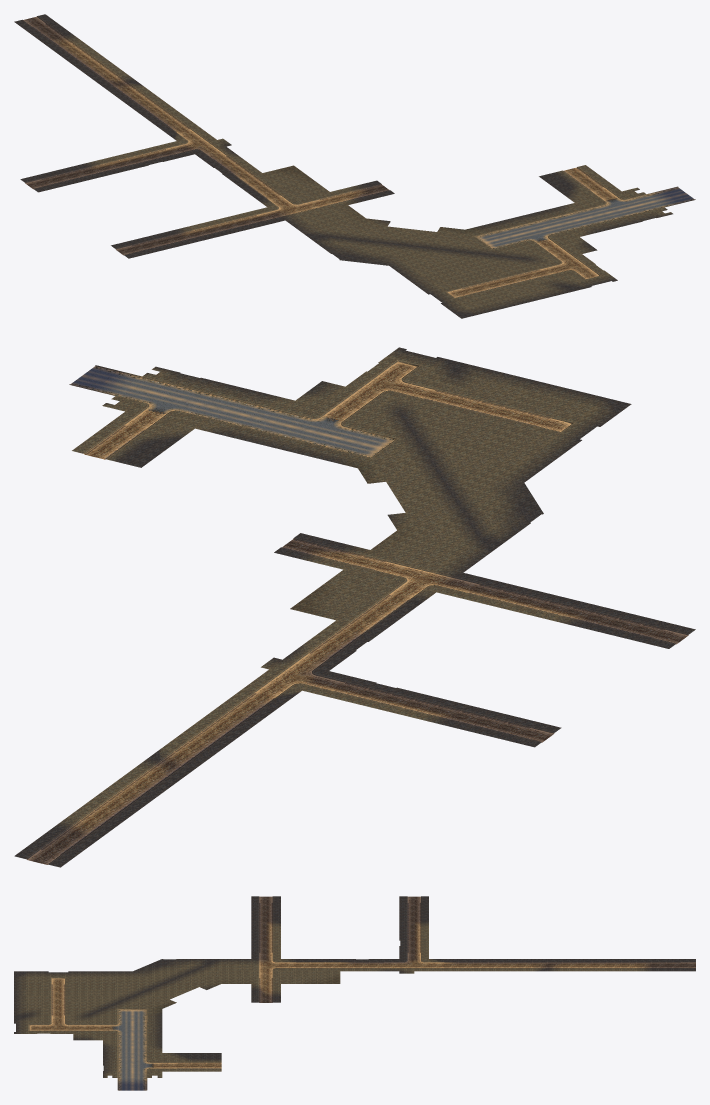
File: M7_Zone1.glb
The picture shows the model from 3 angles, top to bottom: view 1: azimuth 30°, elevation 25°; view 2: azimuth 150°, elevation 25°; view 3: azimuth 270°, elevation 25°; orthographic projection. The views are drawn at different scales.
Parts seen in each view (by area): view 1: M7_ZONE1031, M7_ZONE1033, M7_ZONE1032, M7_ZONE1009, M7_ZONE1034, M7_ZONE1030, M7_ZONE1056, M7_ZONE1070, M7_ZONE1008, M7_ZONE1076, M7_ZONE1078, M7_ZONE1012 (+57 smaller); view 2: M7_ZONE1021, M7_ZONE1022, M7_ZONE1009, M7_ZONE1019, M7_ZONE1020, M7_ZONE1023, M7_ZONE1055, M7_ZONE1070, M7_ZONE1027, M7_ZONE1, M7_ZONE1044, M7_ZONE1062 (+59 smaller); view 3: M7_ZONE1007, M7_ZONE1066, M7_ZONE1051, M7_ZONE1053, M7_ZONE1054, M7_ZONE1056, M7_ZONE1008, M7_ZONE1027, M7_ZONE1029, M7_ZONE1030, M7_ZONE1032, M7_ZONE1034 (+57 smaller).
Part boxes in pixels (x1,y1,x2,y2): M7_ZONE1031: (497,214,545,235); M7_ZONE1033: (559,199,608,220); M7_ZONE1032: (528,207,576,227); M7_ZONE1009: (551,254,602,274); M7_ZONE1034: (591,191,639,212); M7_ZONE1030: (465,222,513,242); M7_ZONE1056: (299,192,347,212); M7_ZONE1070: (177,133,225,153); M7_ZONE1008: (520,261,568,282); M7_ZONE1076: (86,67,135,87); M7_ZONE1078: (50,40,99,61); M7_ZONE1012: (470,256,518,276); M7_ZONE1021: (245,395,317,426); M7_ZONE1022: (199,383,271,414); M7_ZONE1009: (346,364,418,397); M7_ZONE1019: (339,417,410,448); M7_ZONE1020: (292,406,364,437); M7_ZONE1023: (152,372,224,403); M7_ZONE1055: (390,561,462,592); M7_ZONE1070: (256,659,328,690); M7_ZONE1027: (451,471,523,502); M7_ZONE1: (558,392,631,423); M7_ZONE1044: (397,510,469,541); M7_ZONE1062: (290,589,362,620); M7_ZONE1007: (43,996,73,1009); M7_ZONE1066: (399,908,428,921); M7_ZONE1051: (251,908,280,921); M7_ZONE1053: (251,933,280,946); M7_ZONE1054: (251,946,280,959); M7_ZONE1056: (251,971,280,984); M7_ZONE1008: (43,1009,73,1021); M7_ZONE1027: (132,971,162,983); M7_ZONE1029: (132,996,162,1008); M7_ZONE1030: (132,1009,162,1021); M7_ZONE1032: (132,1034,162,1046); M7_ZONE1034: (132,1059,162,1071).
Bounding box in the file's own units: 124 × 0.2 × 184.
26 materials, 26 textured.
